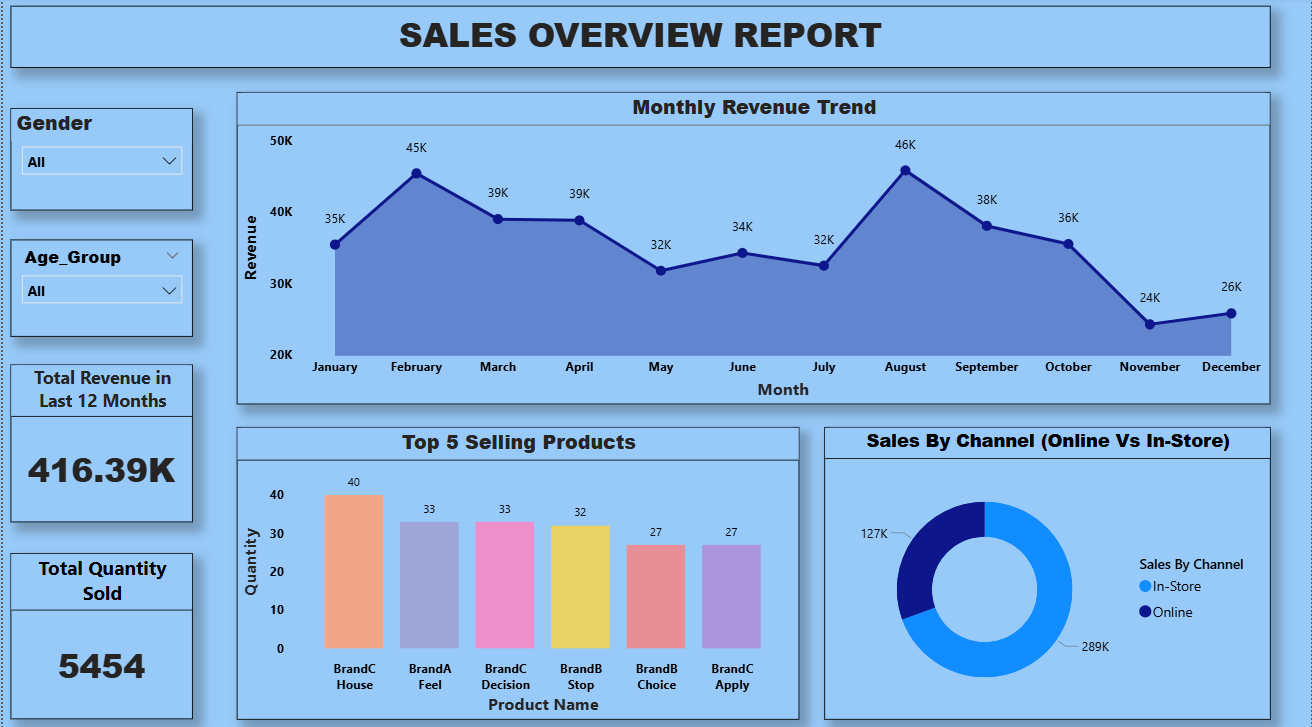

The dashboard page shown, as its layout file describes it:
{"tool":"powerbi","page":{"name":"Page 1","canvas":[1280,720],"ordinal":0},"visuals":[{"type":"card","title":"Total Revenue in Last 12 Months","fields":{"Values":["sales_cleaned.Total Revenue"]},"box":[7.3,359.5,178.5,154.1],"z":0},{"type":"card","title":"Total Quantity Sold","fields":{"Values":["sales_cleaned.Total Quantity Sold"]},"box":[7.3,544.2,178.5,162.6],"z":1000},{"type":"lineChart","title":"Monthly Revenue Trend","fields":{"Category":["sales_cleaned.order_date.Variation.Date Hierarchy.Month"],"Y":["sales_cleaned.Total Revenue"]},"box":[228.7,92.9,1011.3,305.7],"z":2000},{"type":"clusteredColumnChart","title":"Top 5 Selling Products","fields":{"Category":["products_cleaned.product_name"],"Y":["sales_cleaned.Total Quantity Sold"]},"box":[228.7,420.7,550.3,286.1],"z":3000},{"type":"donutChart","title":"Sales By Channel (Online Vs In-Store)","fields":{"Category":["sales_cleaned.sales_channel"],"Y":["sales_cleaned.Total Revenue"]},"box":[803.4,420.7,436.6,286.1],"z":4000},{"type":"slicer","title":"Gender","fields":{"Values":["customers_cleaned.gender"]},"box":[7.3,108.8,178.5,100.3],"z":5000},{"type":"slicer","fields":{"Values":["customers_cleaned.age_group"]},"box":[7.3,237.2,178.5,95.4],"z":6000},{"type":"textbox","box":[7.3,8.6,1232.6,61.1],"z":7000}]}

Visuals, with their boxes in screenshot pixels (x1, y1, x2, y2), scaled from the page's 1280x720 canvas onto the 1312x727 screenshot:
"Total Revenue in Last 12 Months" card: {"x1": 7, "y1": 363, "x2": 190, "y2": 519}
"Total Quantity Sold" card: {"x1": 7, "y1": 549, "x2": 190, "y2": 714}
"Monthly Revenue Trend" lineChart: {"x1": 234, "y1": 94, "x2": 1271, "y2": 402}
"Top 5 Selling Products" clusteredColumnChart: {"x1": 234, "y1": 425, "x2": 798, "y2": 714}
"Sales By Channel (Online Vs In-Store)" donutChart: {"x1": 823, "y1": 425, "x2": 1271, "y2": 714}
"Gender" slicer: {"x1": 7, "y1": 110, "x2": 190, "y2": 211}
slicer - customers_cleaned.age_group: {"x1": 7, "y1": 240, "x2": 190, "y2": 336}
textbox: {"x1": 7, "y1": 9, "x2": 1271, "y2": 70}
